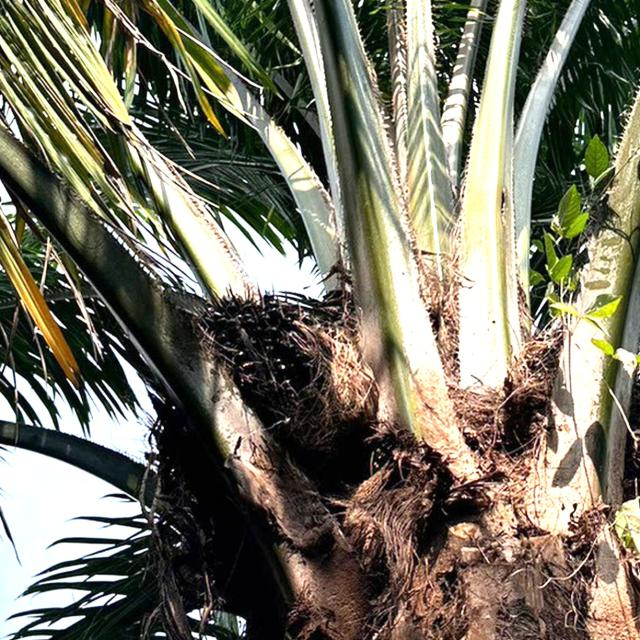almost: (196, 281, 390, 453)
